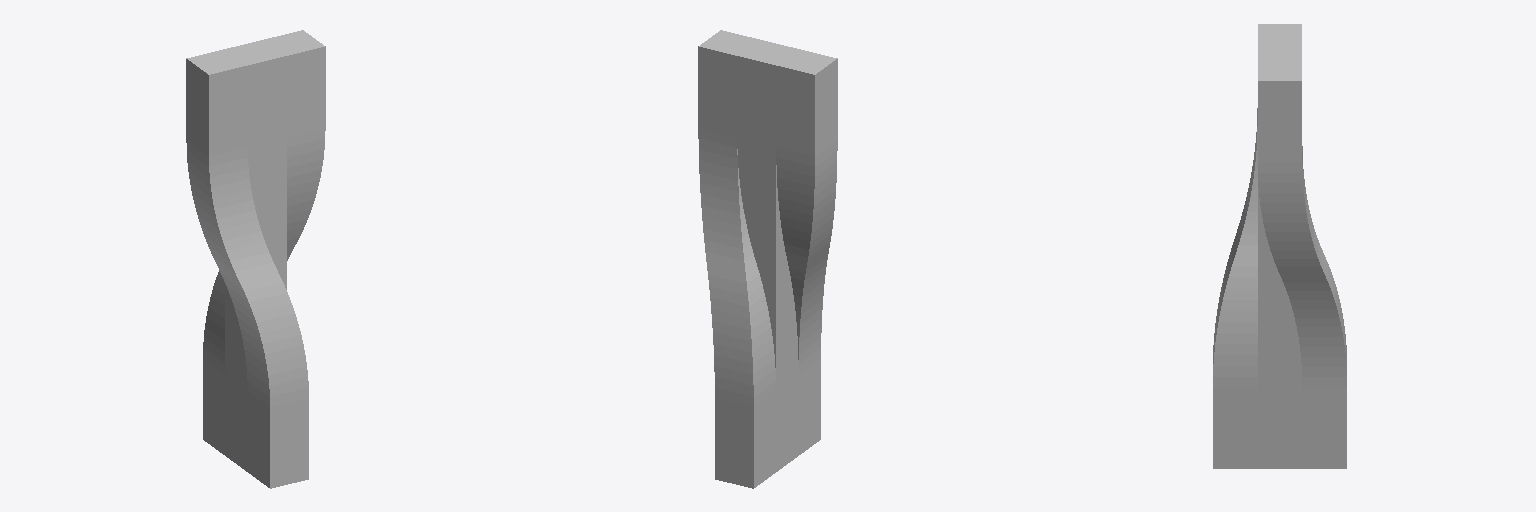
Rendered from ESCHERTOWER_norm.obj.
3 views of the same model, side by side, from view 1: azimuth 30°, elevation 25°; view 2: azimuth 150°, elevation 25°; view 3: azimuth 270°, elevation 25° (orthographic).
Bounding box in the file's own units: 0.5718 × 1.91 × 0.5718.